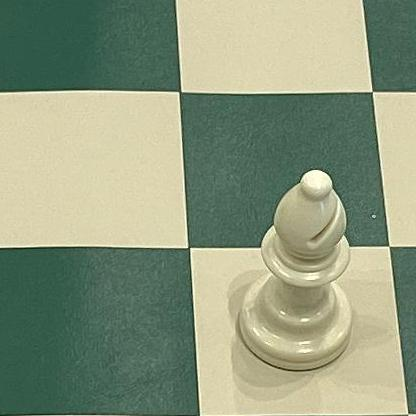white-bishop: (234, 166, 358, 374)
